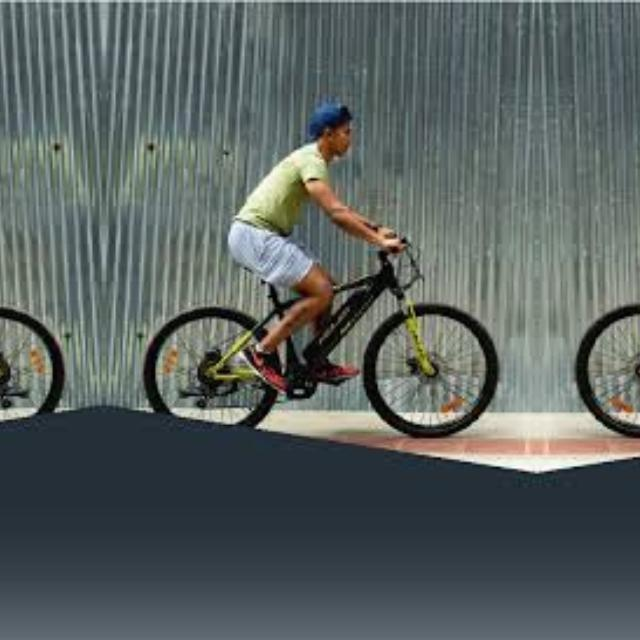obstacle: (140, 240, 510, 446), (563, 240, 640, 446), (0, 240, 65, 446)
